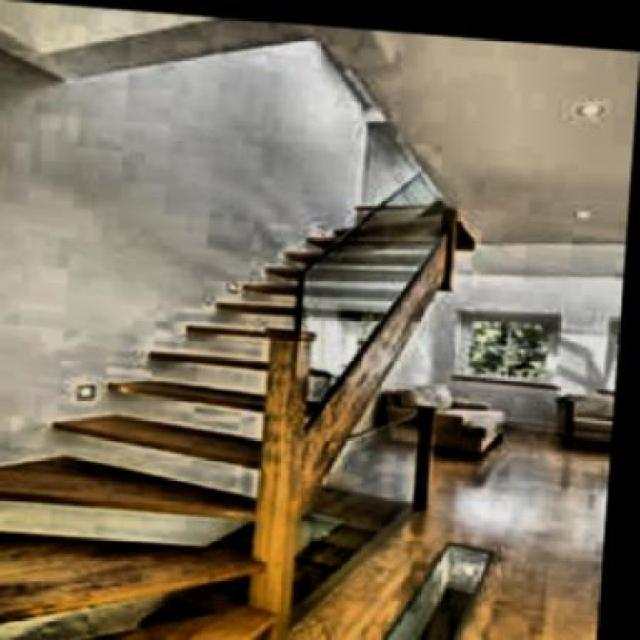stair: (0, 154, 354, 514)
